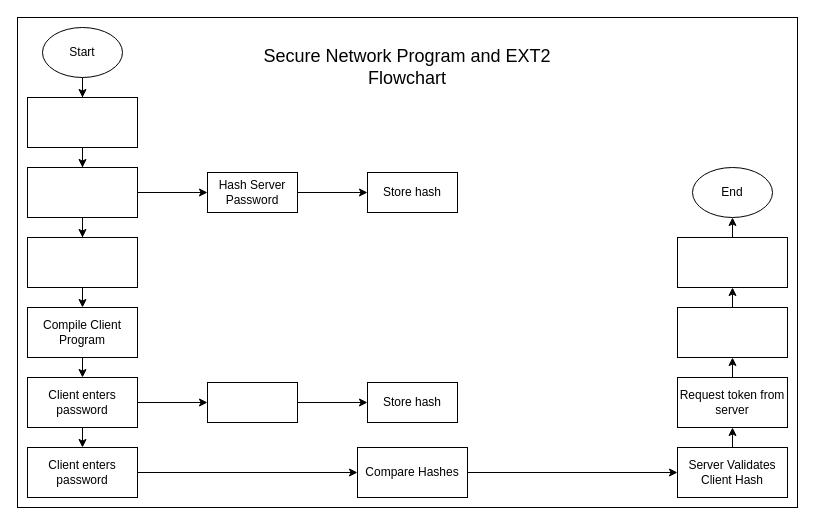
Image size: 815x525. Some labels were removed from this diagram. Here are the shapes that lost their labels. From the top down, the centre of each, then its label:
[82,122]: Compile Server Program
[82,192]: Admin creates temporary password
[82,262]: Wait for Client Request
[732,262]: Allow access to server
[732,332]: Authenticate Clients token
[252,402]: Hash Client password
